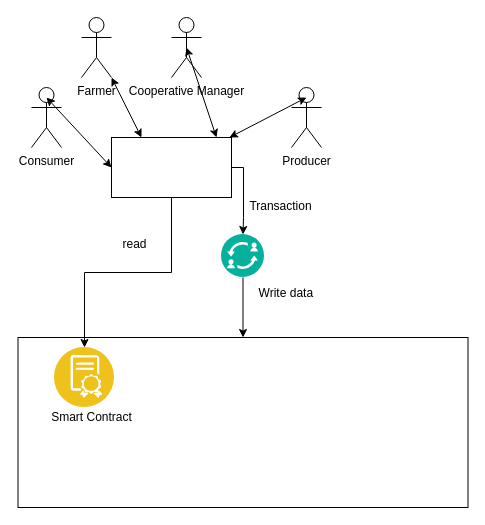
Some shapes in this 485 by 525 pixel diagram are drawn without their labels. The shapes that lost their labels are listed below. From the top down, each one's box as (x1, y1, x2, y2) in pixels, then its label:
(110, 136, 232, 198): Decentralized App (D-APP)
(17, 336, 468, 508): Ethereum Blockchain
